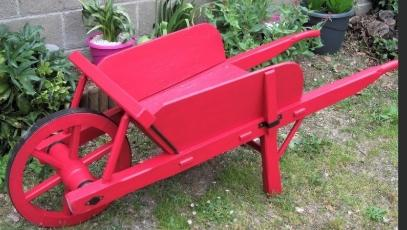BROUETTE: (2, 21, 399, 230)
